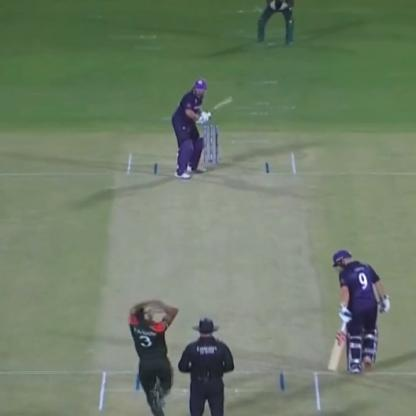ball: (138, 311, 153, 322)
bat: (326, 308, 352, 376), (199, 94, 240, 118)
pitch: (93, 146, 325, 414)
